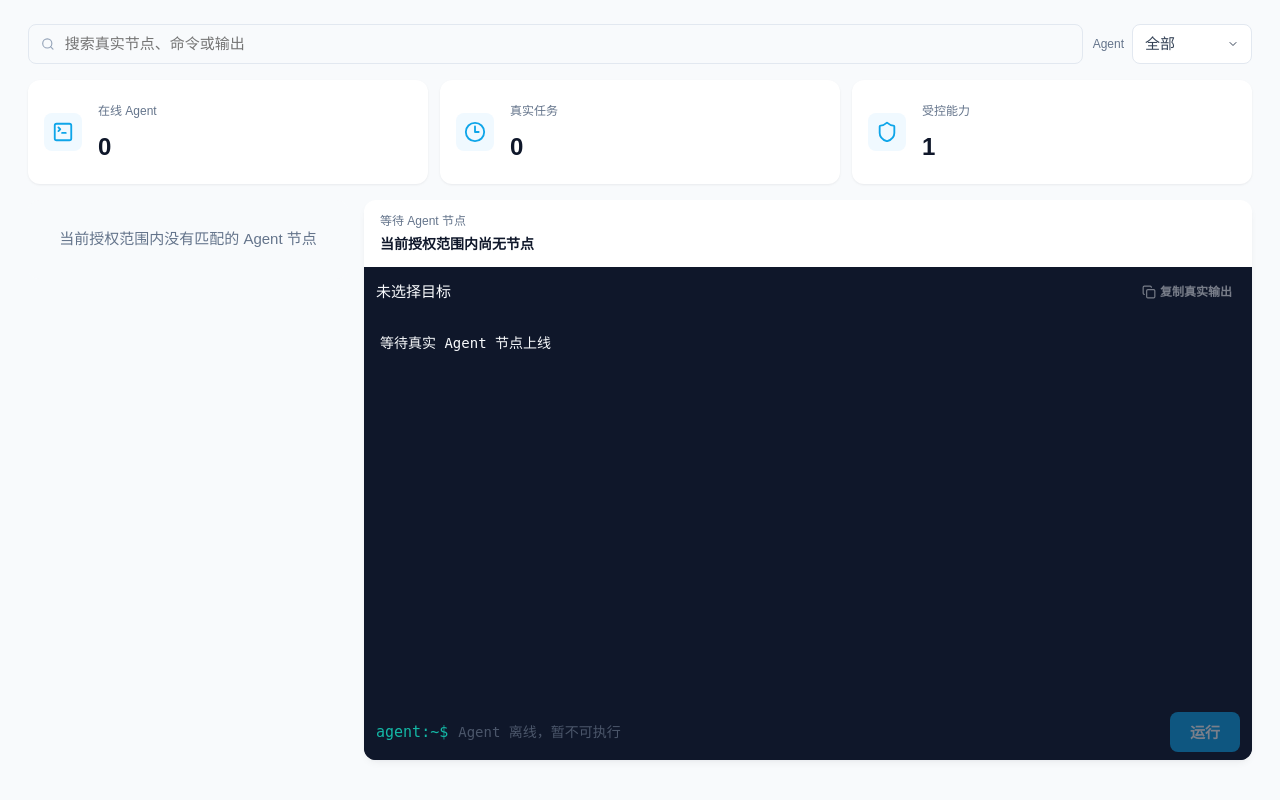
terminal real backend integration › rechecks Agent capability when the confirmation dialog is submitted
The image size is (1280, 800).
Type "systemctl status nginx --no-pager" into the field named "命令输入" at [809, 732], box top-left (456, 712), bottom-right (1162, 752)
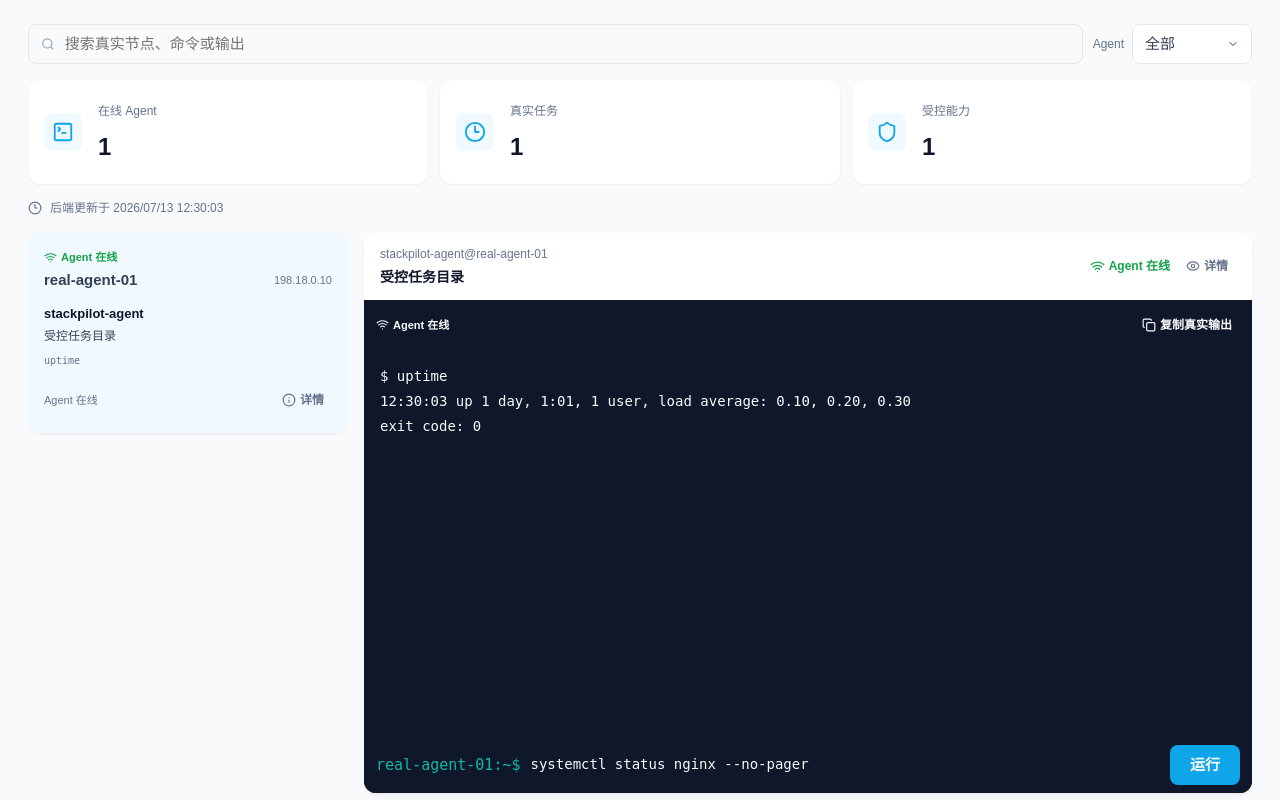
Click the button "运行" at [1205, 765], box top-left (1170, 745), bottom-right (1240, 785)
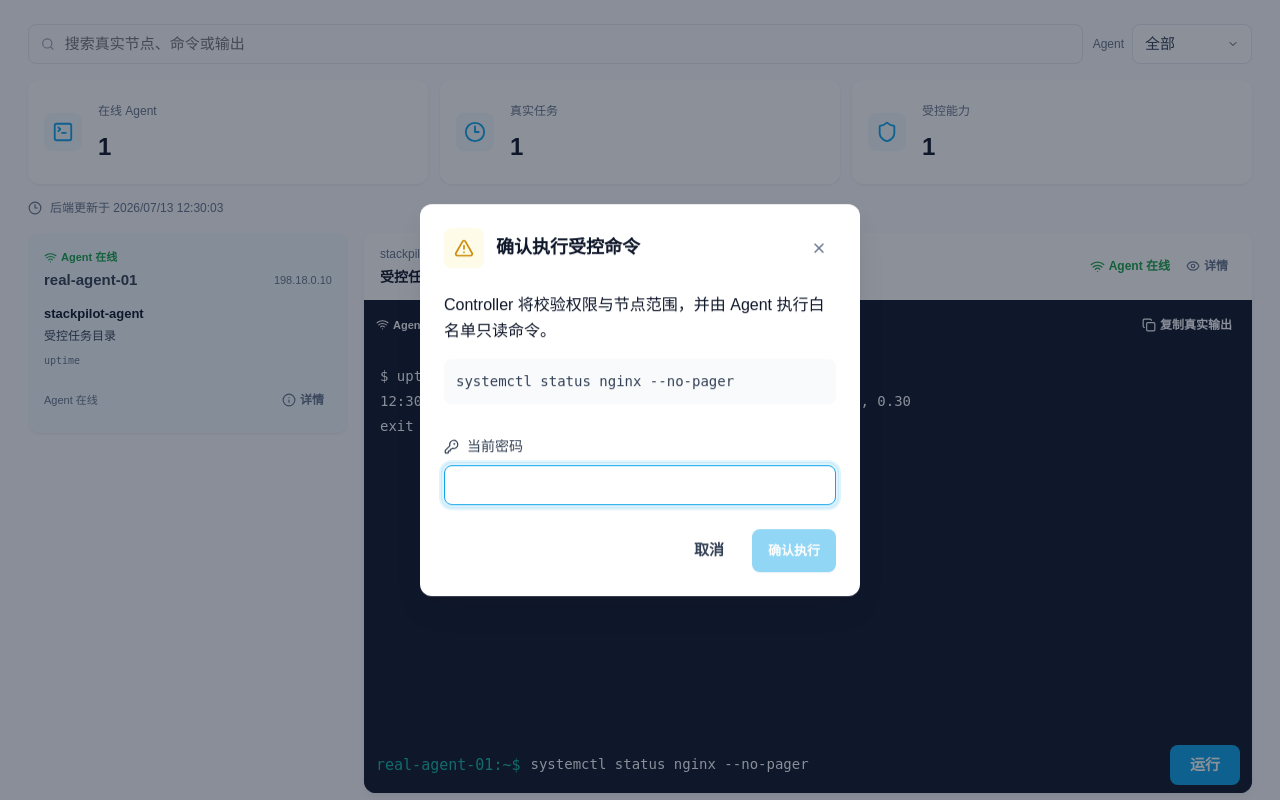
Type "current-password" into the password field labelled "当前密码" at [640, 485], box top-left (444, 465), bottom-right (836, 505)
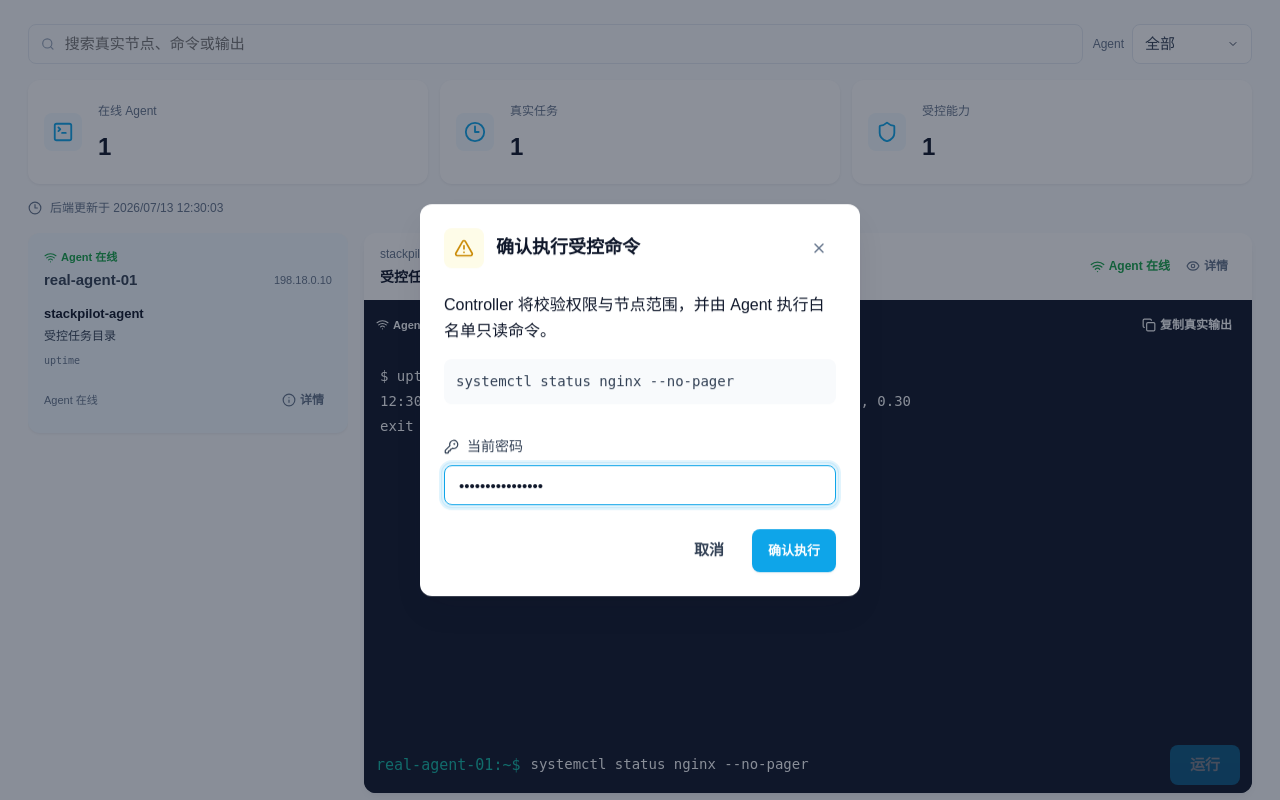
Expected: the button "运行" is disabled, top-left (1170, 745), bottom-right (1240, 785)
Click the button "确认执行" at [794, 551], box top-left (752, 529), bottom-right (836, 572)
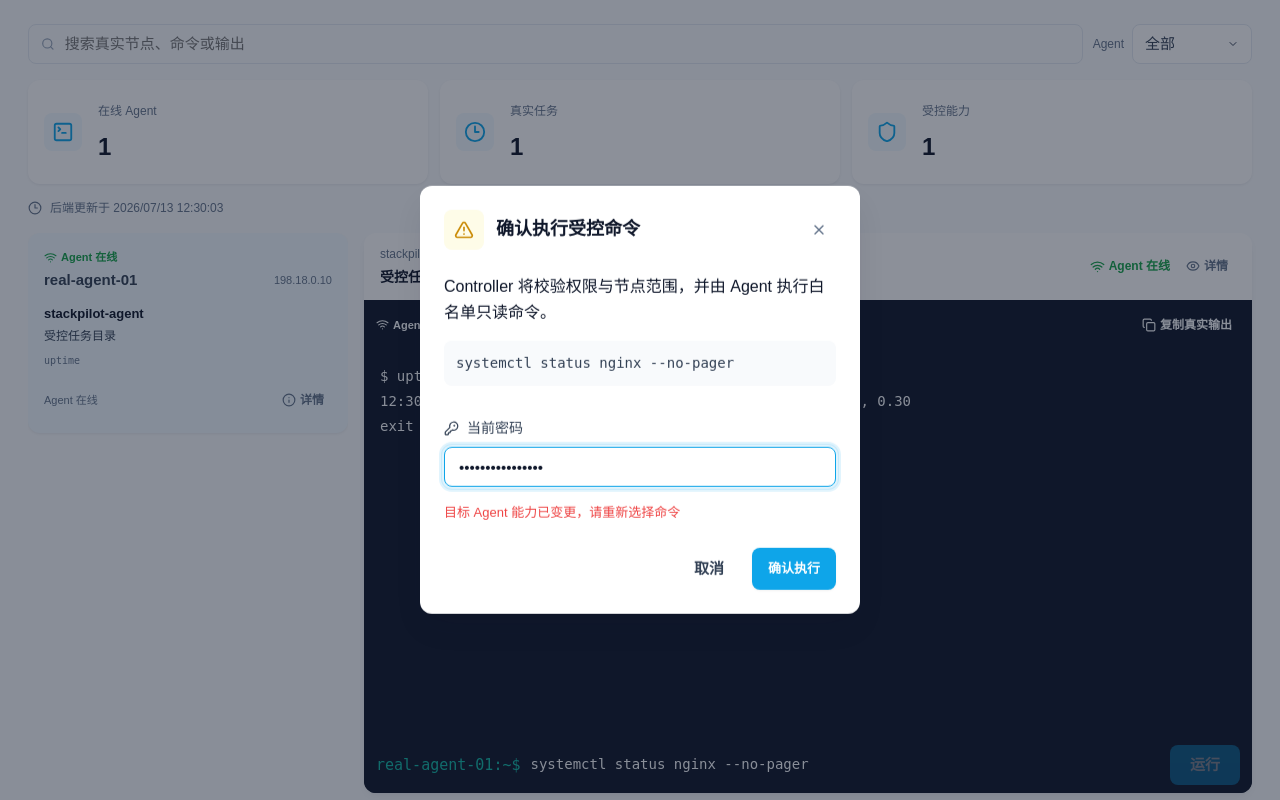
Expected: the text "目标 Agent 能力已变更，请重新选择命令" is shown, top-left (444, 505), bottom-right (680, 520)
